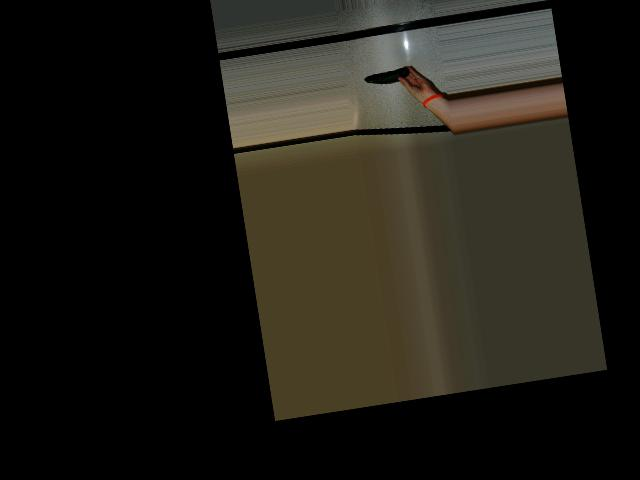cucumber: (363, 66, 411, 86)
